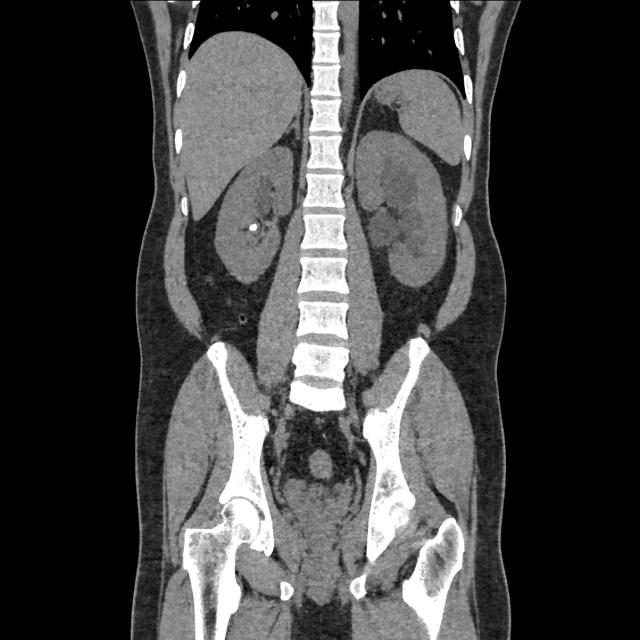kidneystone: (249, 222, 259, 232)
